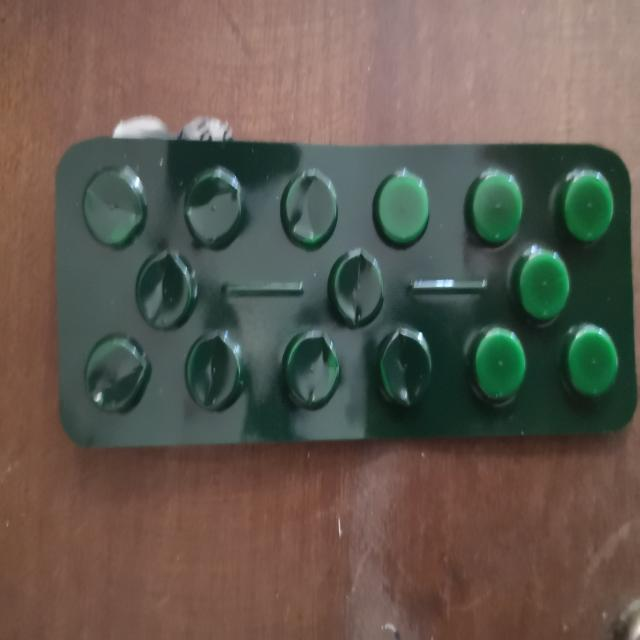Empty: (78, 162, 156, 246), (273, 327, 347, 413), (75, 336, 156, 413), (179, 331, 250, 414), (178, 166, 248, 250), (132, 252, 200, 330), (278, 168, 342, 250), (375, 331, 439, 411), (330, 250, 388, 331)
Pill: (460, 322, 530, 407), (459, 167, 526, 245), (371, 167, 435, 247), (511, 244, 572, 324), (556, 166, 618, 243), (560, 326, 622, 403)
